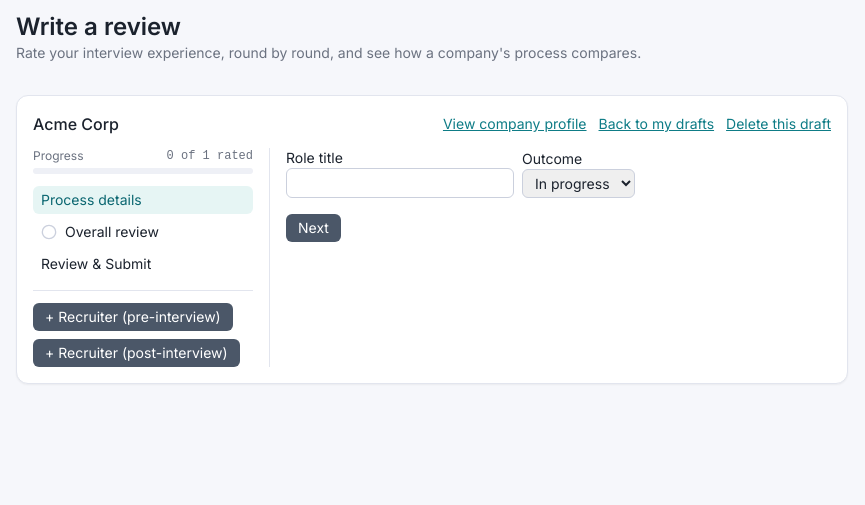
Test case: Wizard step navigation (GitHub issue #254) › adds a recruiter step with the chosen timing, independent of round steps
Expected: the heading "Acme Corp" is shown, [33,112,119,136]
Type "Backend Engineer" into the field labelled "Role title".
click(400, 183); type("Backend Engineer")  # box [286,168,514,198]
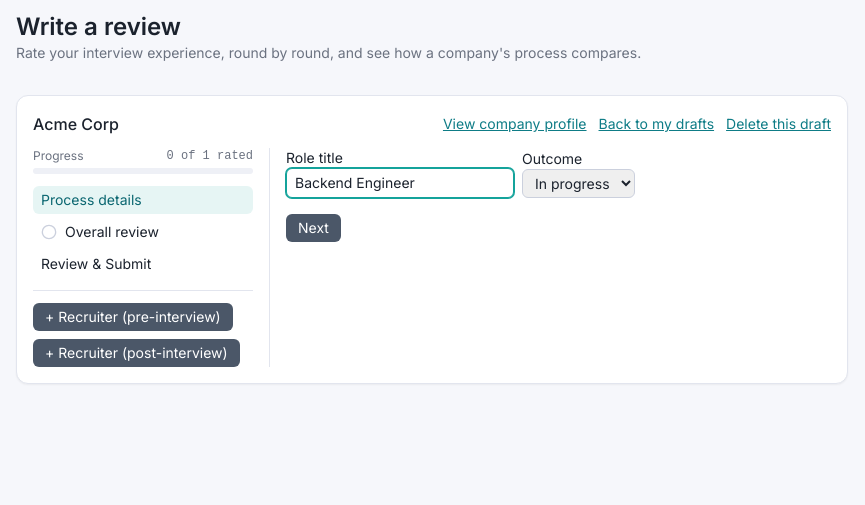
Click the button "+ Recruiter (pre-interview)".
click(133, 317)  # box [33,303,233,331]
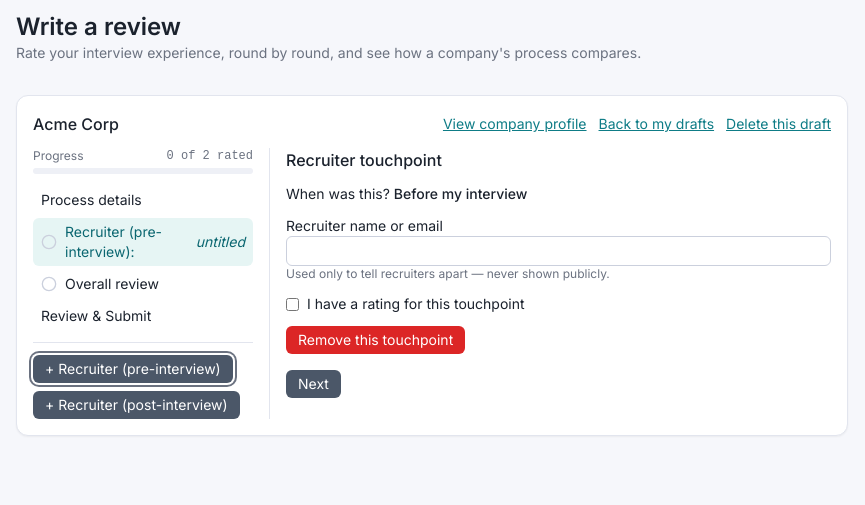
Expected: the heading "Recruiter touchpoint" is shown, [286,150,442,170]
Type "jane@acme.example" into the field labelled "Recruiter name or email".
click(558, 251); type("jane@acme.example")  # box [286,236,831,266]
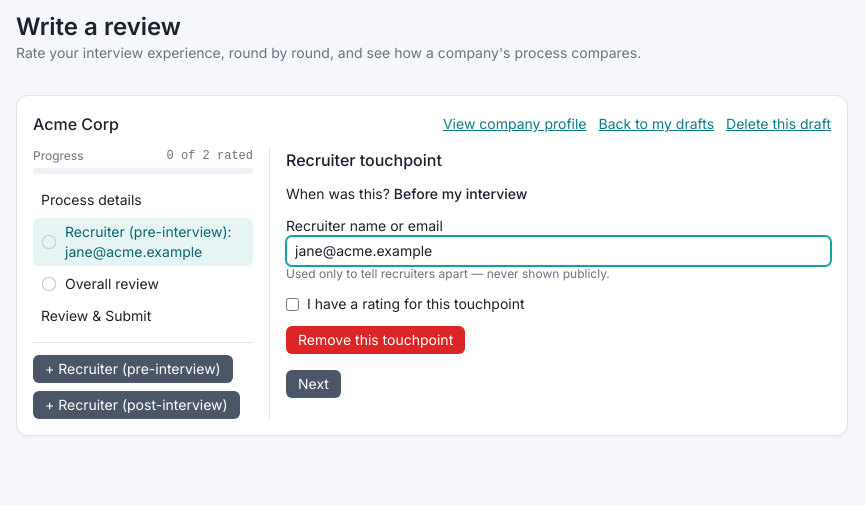
Expected: the button "Recruiter (pre-interview): jane@acme.example" is shown, [33,218,253,266]
Click the button "+ Recruiter (post-interview)".
click(136, 405)  # box [33,391,240,419]
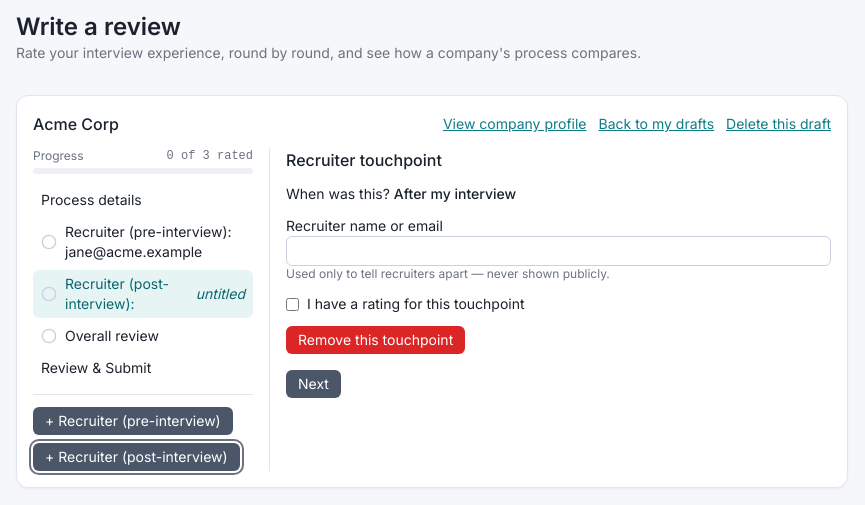
Type "bob@acme.example" into the field labelled "Recruiter name or email".
click(558, 251); type("bob@acme.example")  # box [286,236,831,266]
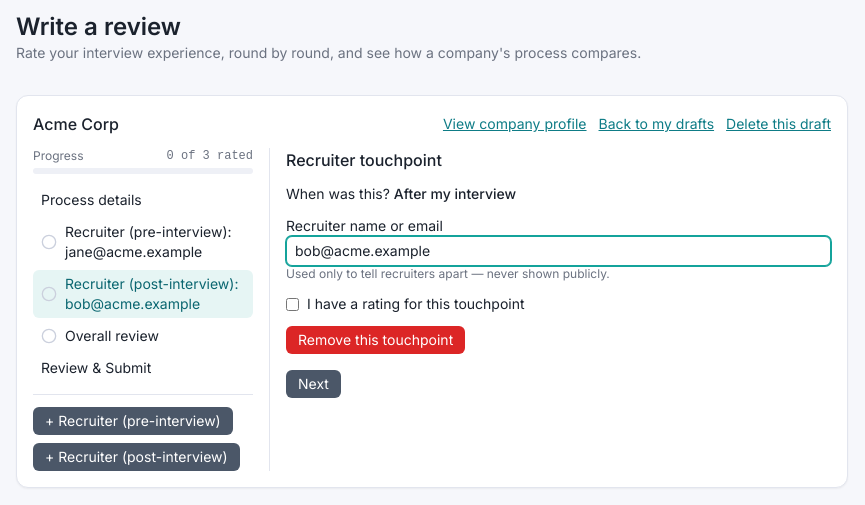
Expected: the button "Recruiter (pre-interview): jane@acme.example" is shown, [33,218,253,266]
Expected: the button "Recruiter (post-interview): bob@acme.example" is shown, [33,270,253,318]
